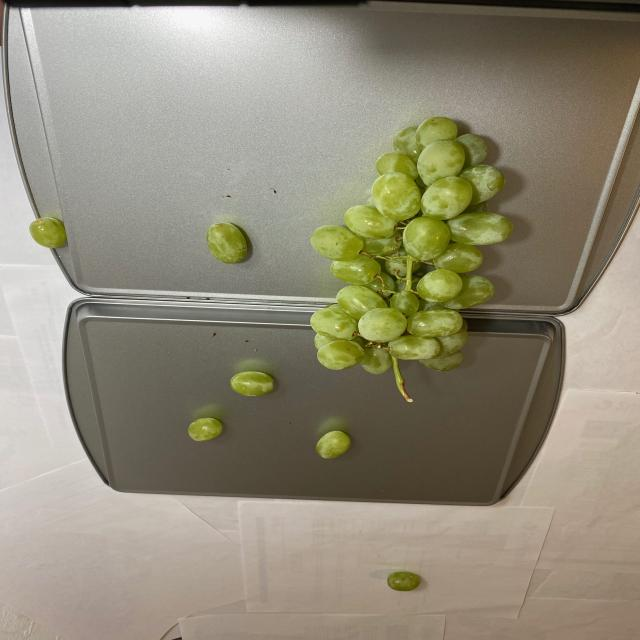grapes: (219, 114, 516, 405), (182, 414, 226, 448), (29, 214, 67, 250), (312, 426, 353, 459), (388, 571, 428, 593)
